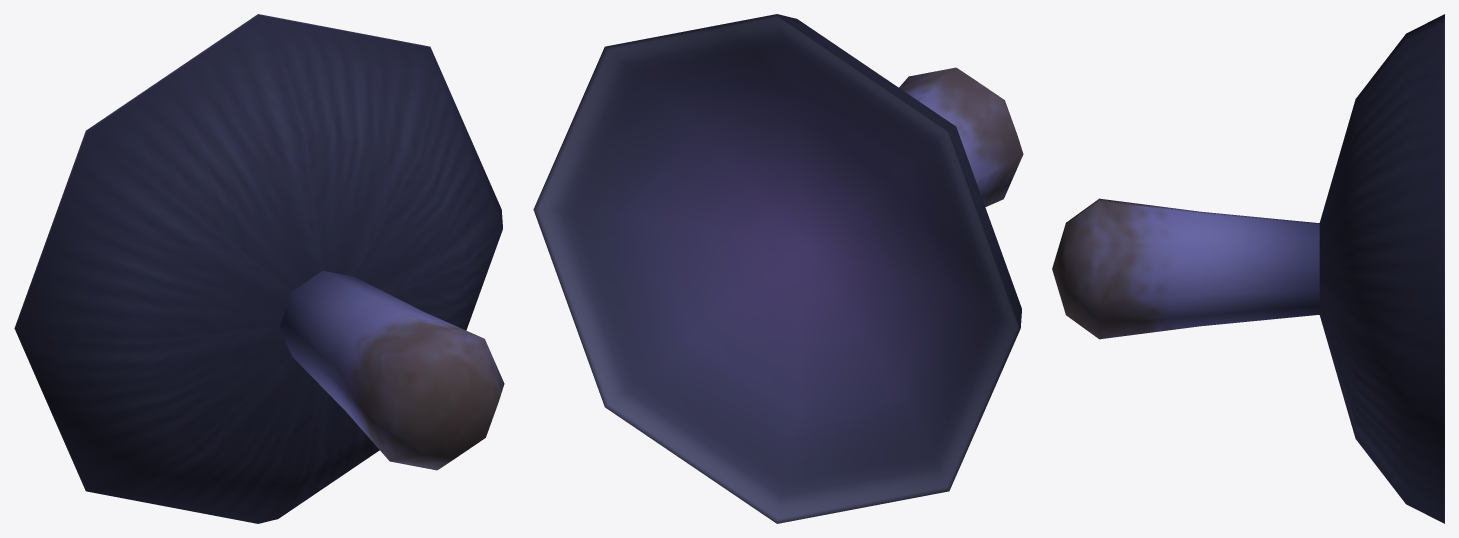
The model's file is Mushroom_C.fbx.
3 renders of one model, left to right at view 1: azimuth 30°, elevation 25°; view 2: azimuth 150°, elevation 25°; view 3: azimuth 270°, elevation 25°, orthographic. The views are drawn at different scales.
Parts seen in each view (by area): view 1: Mushroom_C; view 2: Mushroom_C; view 3: Mushroom_C.
Part boxes in pixels (x1=…): Mushroom_C: x1=14, y1=14, x2=504, y2=523; Mushroom_C: x1=533, y1=14, x2=1023, y2=523; Mushroom_C: x1=1052, y1=14, x2=1444, y2=523.
Size of the model in its own units: 33.4 by 33.4 by 24.18.
